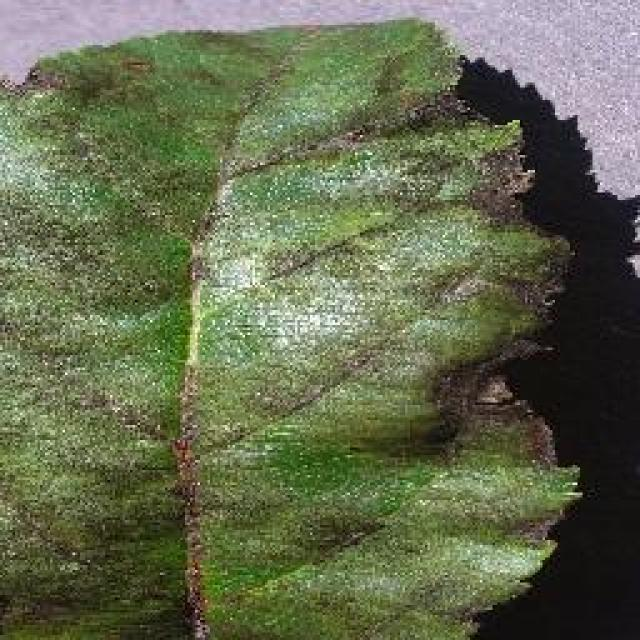apple scab disease: (0, 15, 585, 637)
